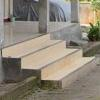stairs: (2, 32, 94, 90)
